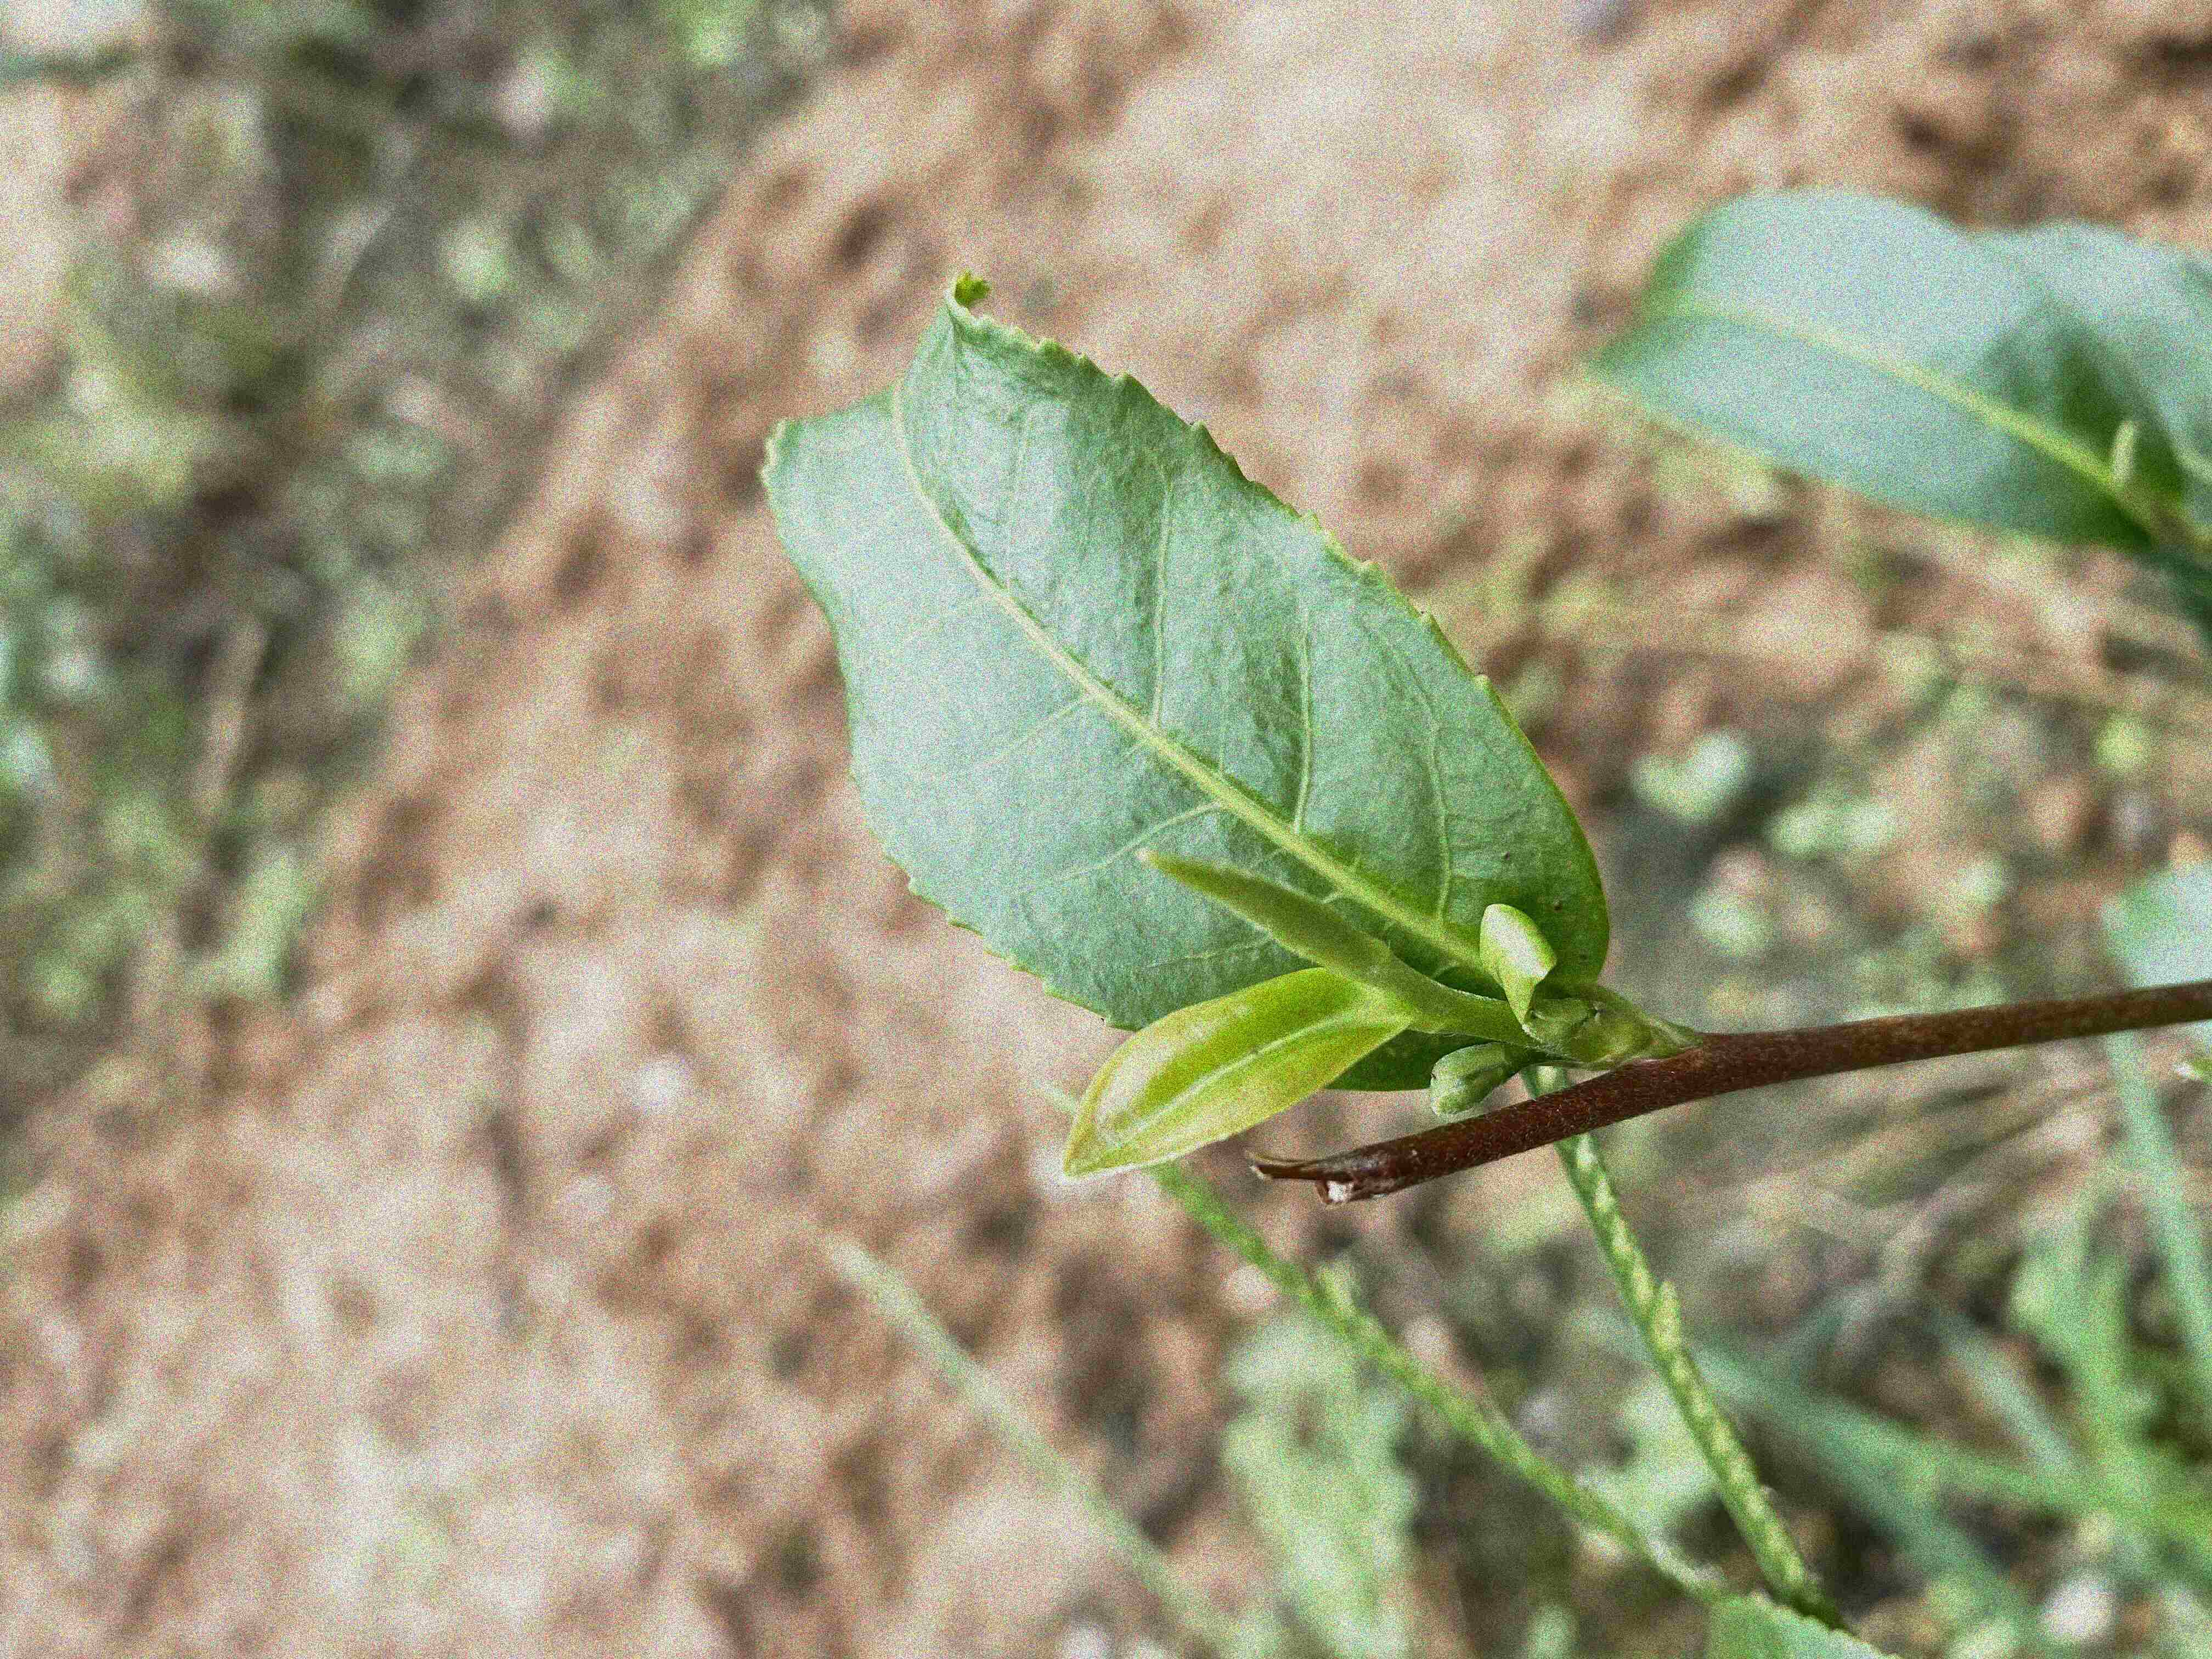healthy: (756, 267, 1613, 1091), (1052, 969, 1409, 1188)
